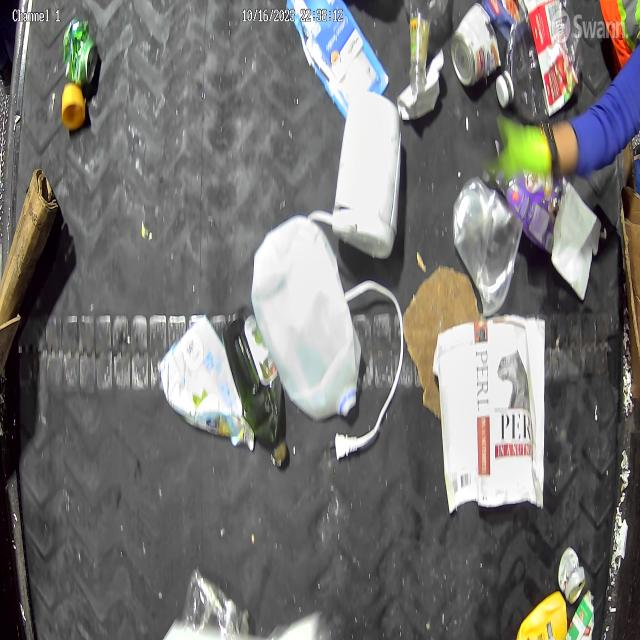can: (450, 3, 502, 88), (62, 15, 98, 86), (559, 546, 586, 606)
milk_jug: (250, 212, 361, 423)
non_white_jug: (516, 590, 568, 640)
plastic_bottle: (496, 0, 584, 123), (404, 0, 448, 93)
